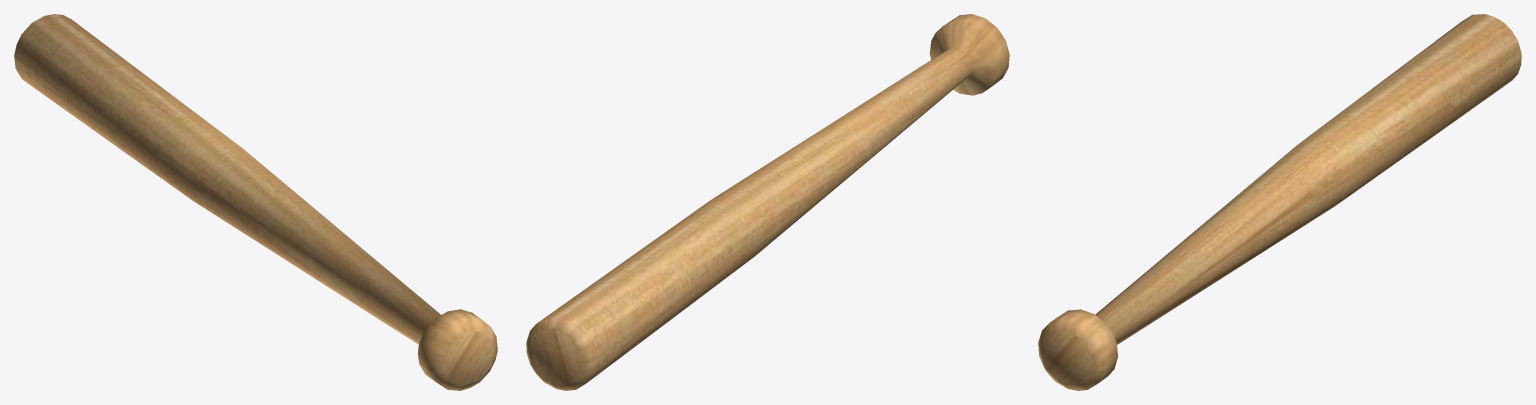
File: bat.fbx
The picture shows the model from 3 angles, left to right: view 1: azimuth 30°, elevation 25°; view 2: azimuth 150°, elevation 25°; view 3: azimuth 330°, elevation 25°; orthographic projection.
Parts seen in each view (by area): view 1: Cylinder; view 2: Cylinder; view 3: Cylinder.
Boxes of the visible parts, <box> form: Cylinder: <box>14,14,497,390</box>; Cylinder: <box>526,14,1009,390</box>; Cylinder: <box>1038,14,1521,390</box>.
Size of the model in its own units: 200 by 200 by 2183.
